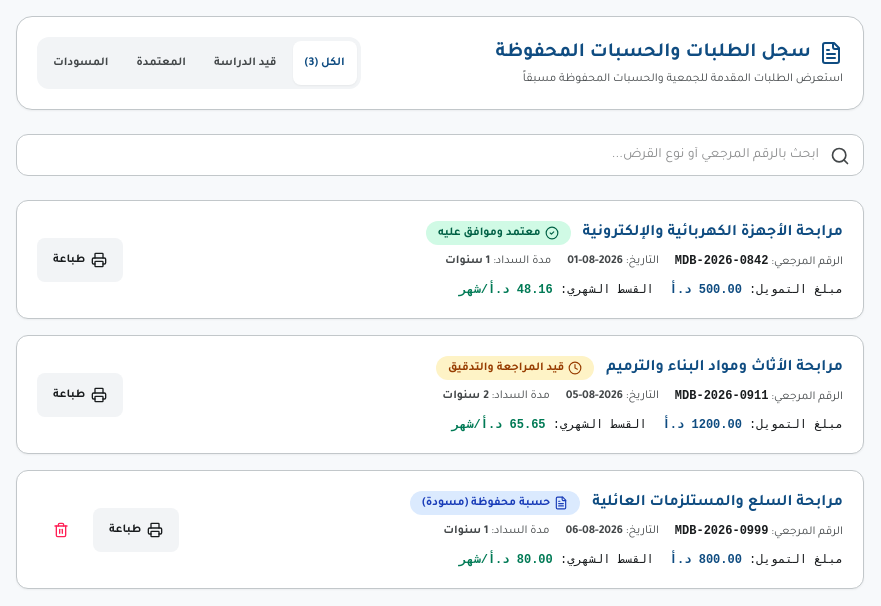
Test case: ApplicationsHistory › groups the status filters in a labelled group and keeps the empty state heading ordered
expect the button "الكل (3)" is shown: met, box [293, 41, 357, 85]
expect the button "قيد الدراسة" is shown: met, box [202, 41, 288, 85]
Type "zzz" into the field named "البحث في السجلات" at (440, 155), box [16, 134, 864, 176]
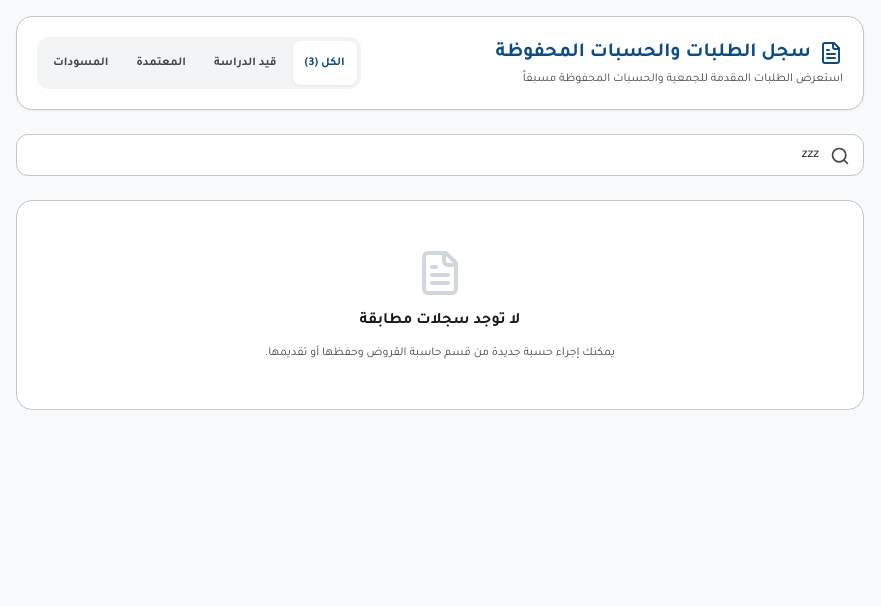
expect the heading "لا توجد سجلات مطابقة" is shown: met, box [360, 313, 520, 329]
